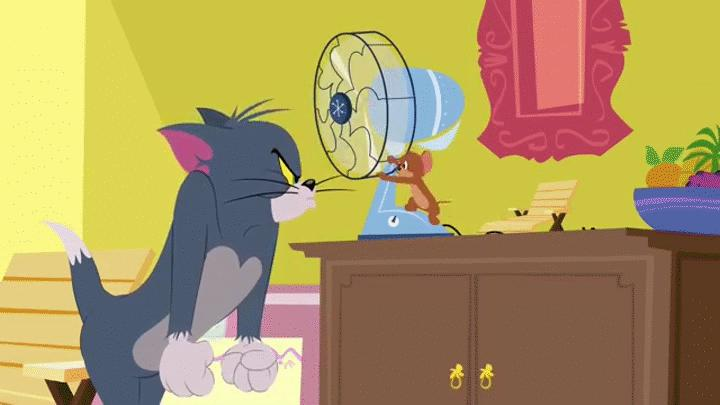tom: (43, 99, 330, 405)
